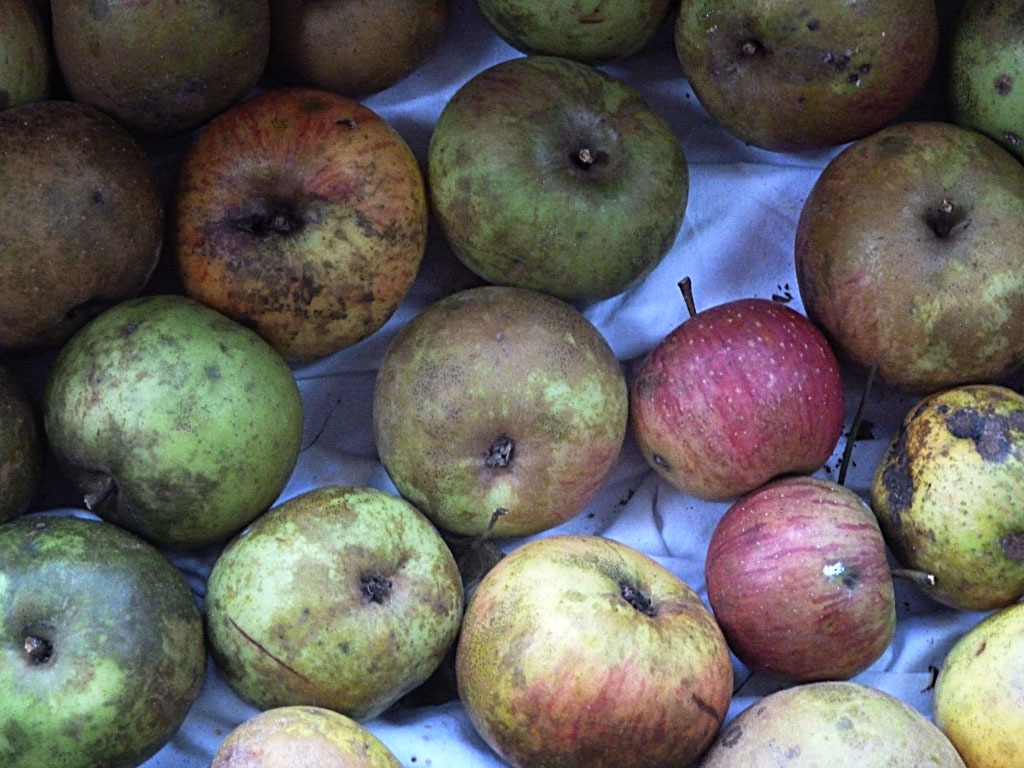Apple: (0, 0, 1022, 765), (453, 535, 732, 767)
